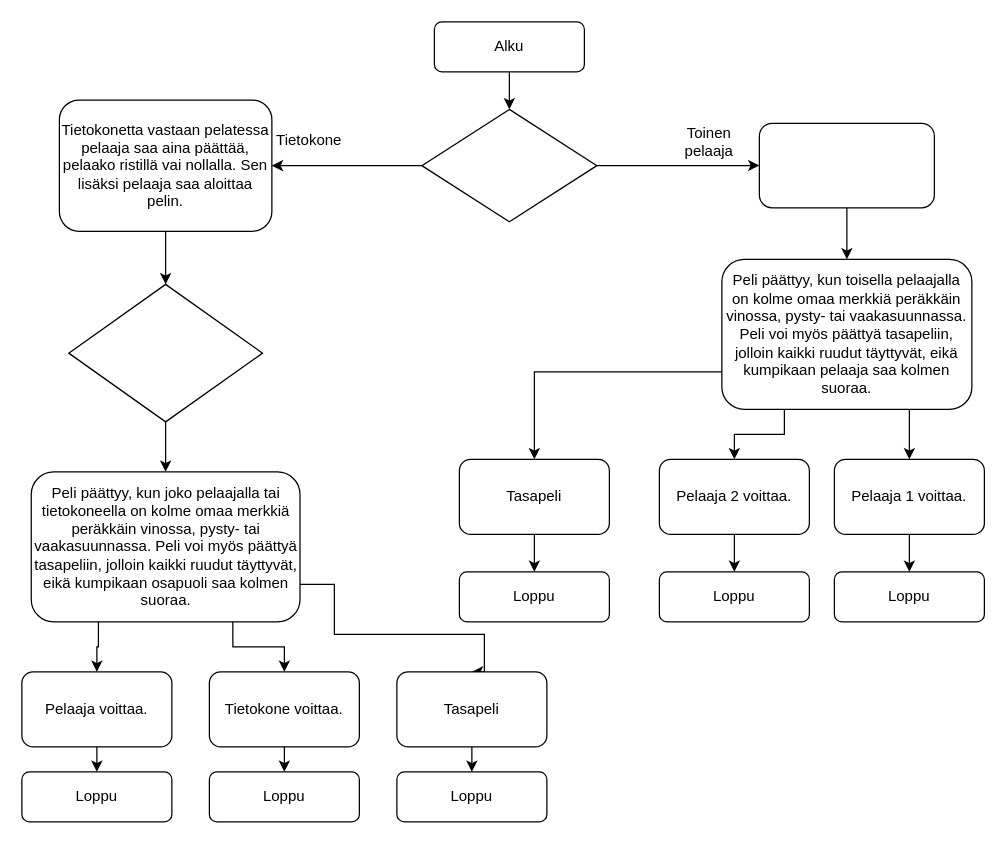
This 1006x844 diagram has some shape labels left out. Here are the shapes that lost their labels. From the top down, the centre of each, then its label:
At point (509, 165): "Pelataanko tietokonetta vai toista pelaajaa vastaan?".
At point (846, 165): "Kahden pelaajan pelissä aloittava pelaaja pelaa ristillä.".
At point (165, 352): "Pelaaja valitsee, pelaako ristillä vai nollalla.".
